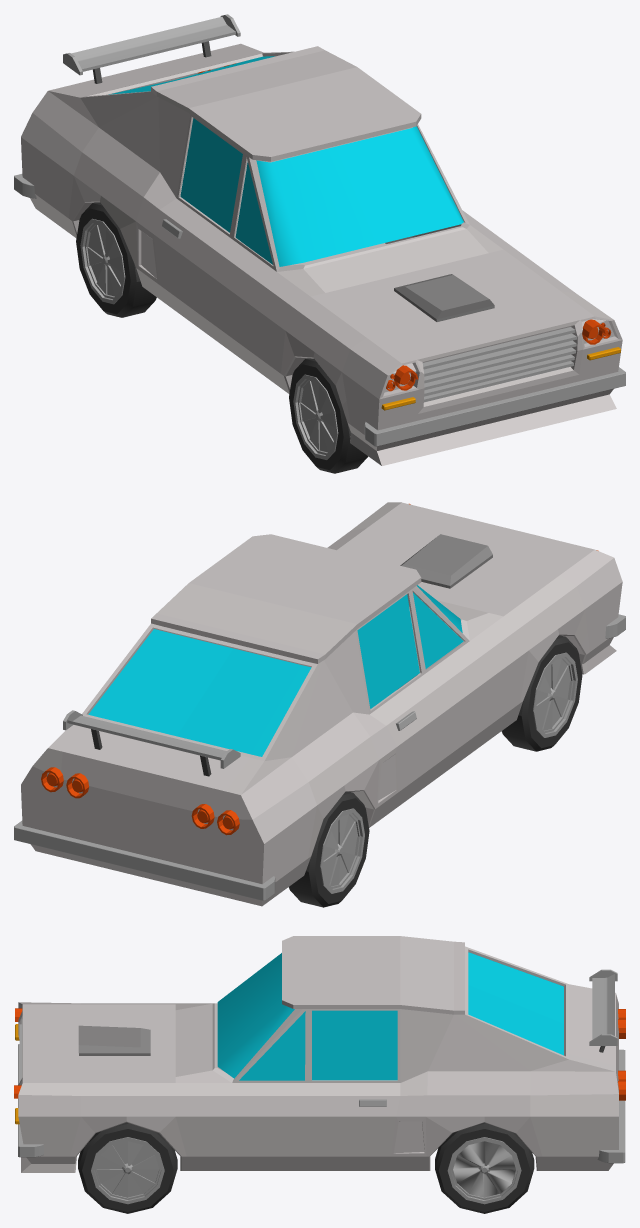
Rendered from car2.fbx.
3 views of the same model, one above another, from view 1: azimuth 30°, elevation 25°; view 2: azimuth 150°, elevation 25°; view 3: azimuth 270°, elevation 25° (orthographic). The views are drawn at different scales.
Parts seen in each view (by area): view 1: car2; view 2: car2; view 3: car2.
Part boxes in pixels (bbox=[...]): car2: bbox=[14, 14, 625, 473]; car2: bbox=[14, 502, 625, 907]; car2: bbox=[14, 936, 625, 1213].
Bounding box in the file's own units: 2.09 × 1.87 × 5.26.
